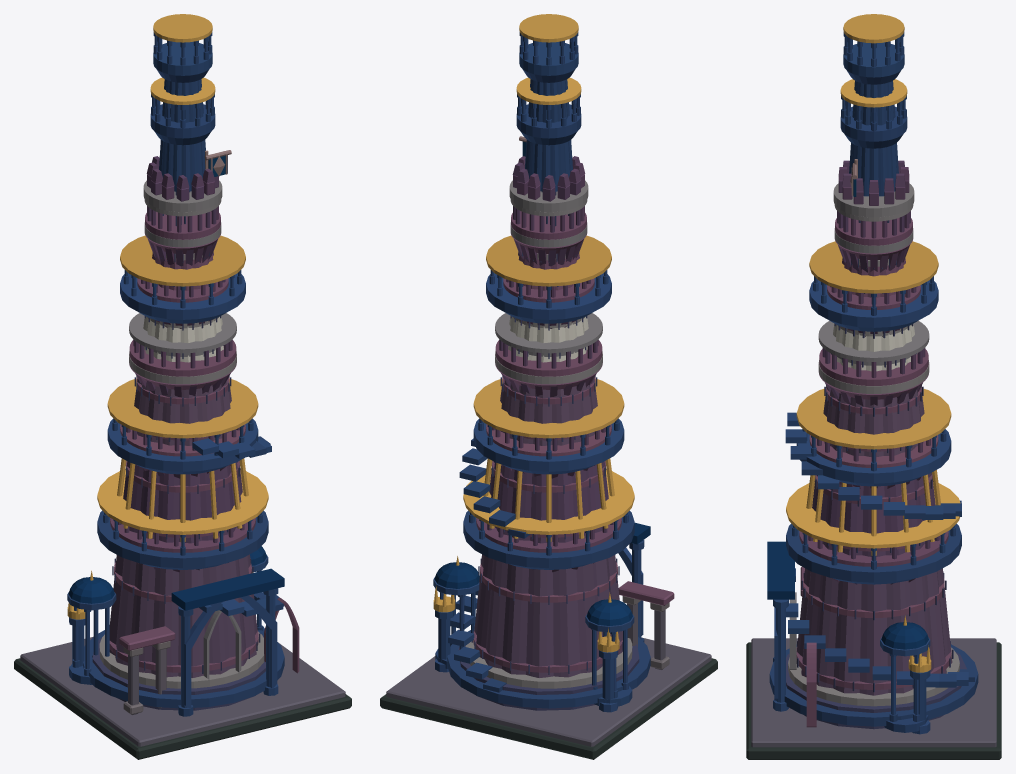
3 views of the same model, side by side, from view 1: azimuth 30°, elevation 25°; view 2: azimuth 150°, elevation 25°; view 3: azimuth 270°, elevation 25° (orthographic). The views are drawn at different scales.
Visible parts, largest first — view 1: archer_tower_L12_0, archer_tower_L12_1; view 2: archer_tower_L12_0, archer_tower_L12_1; view 3: archer_tower_L12_0, archer_tower_L12_1.
Boxes of the visible parts, left/top/right/bottom form: archer_tower_L12_0: left=14, top=32, right=351, bottom=759; archer_tower_L12_1: left=67, top=14, right=268, bottom=619; archer_tower_L12_0: left=380, top=32, right=717, bottom=759; archer_tower_L12_1: left=433, top=14, right=634, bottom=652; archer_tower_L12_0: left=746, top=32, right=1001, bottom=759; archer_tower_L12_1: left=786, top=14, right=960, bottom=672.
Bounding box in the file's own units: 3.6 × 10.58 × 3.6.
